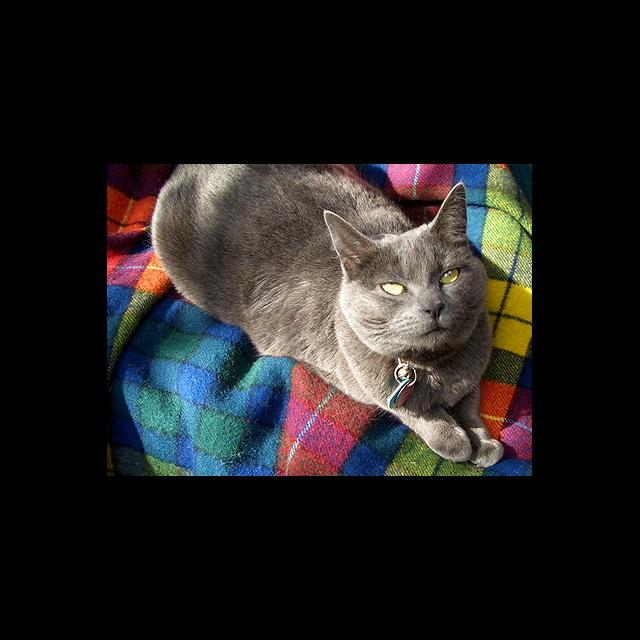animals: (326, 183, 472, 318)
